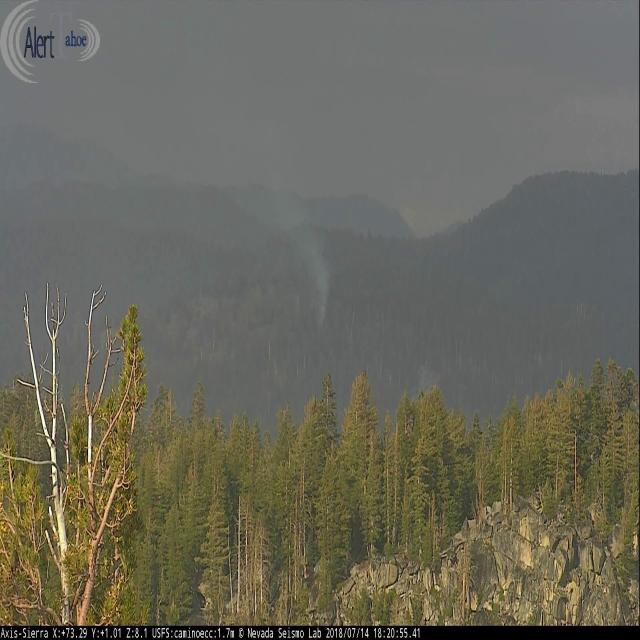smoke: (237, 159, 330, 327)
